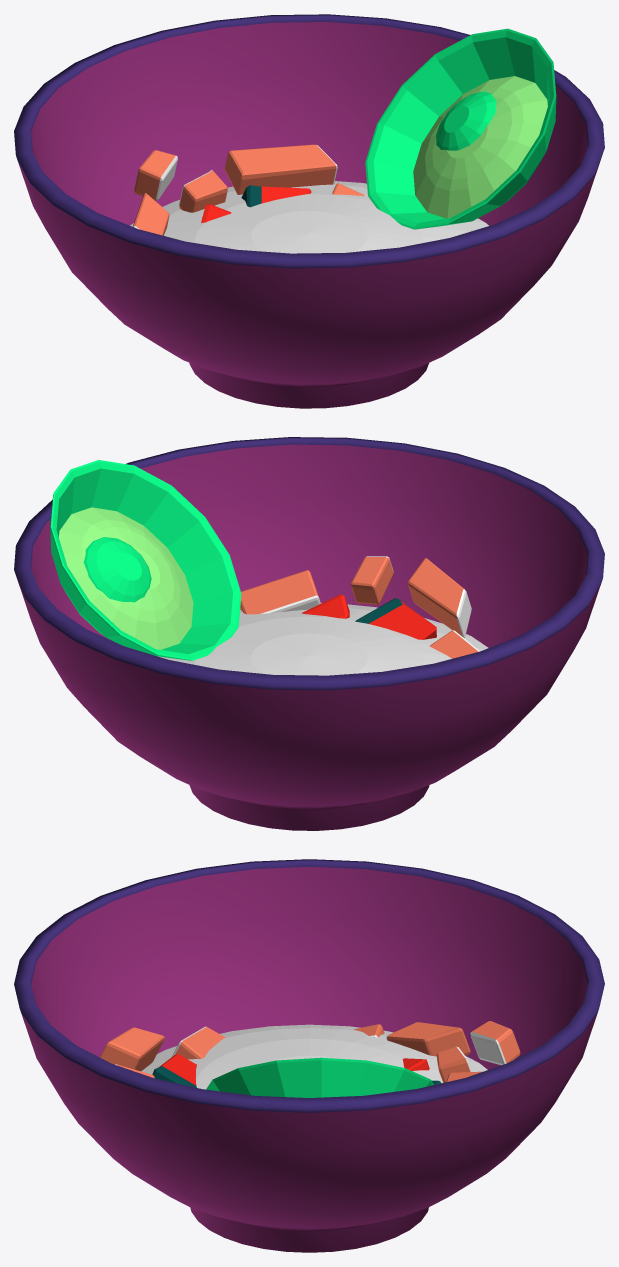
File: unmixed_bitterballen_model 1.fbx
The picture shows the model from 3 angles, top to bottom: view 1: azimuth 30°, elevation 25°; view 2: azimuth 150°, elevation 25°; view 3: azimuth 270°, elevation 25°; orthographic projection.
Parts seen in each view (by area): view 1: Mixing_Bowl, Egg_Cracked, Flour, Meat_Chopped_02; view 2: Mixing_Bowl, Egg_Cracked, Flour, Meat_Chopped_01; view 3: Mixing_Bowl, Flour, Egg_Cracked, Meat_Chopped_02, Meat_Chopped_01.
Boxes of the visible parts, x1,y1,x2,y2 form: Mixing_Bowl: (14,14,604,408); Egg_Cracked: (365,28,556,229); Flour: (130,181,488,253); Meat_Chopped_02: (132,144,364,235); Mixing_Bowl: (14,437,604,830); Egg_Cracked: (50,460,241,660); Flour: (158,603,488,675); Meat_Chopped_01: (240,556,479,658); Mixing_Bowl: (14,859,604,1252); Flour: (141,1024,487,1089); Egg_Cracked: (206,1057,433,1097); Meat_Chopped_02: (353,1021,520,1084); Meat_Chopped_01: (100,1026,225,1087).
Size of the model in its own units: 48.76 by 48.76 by 24.01.
